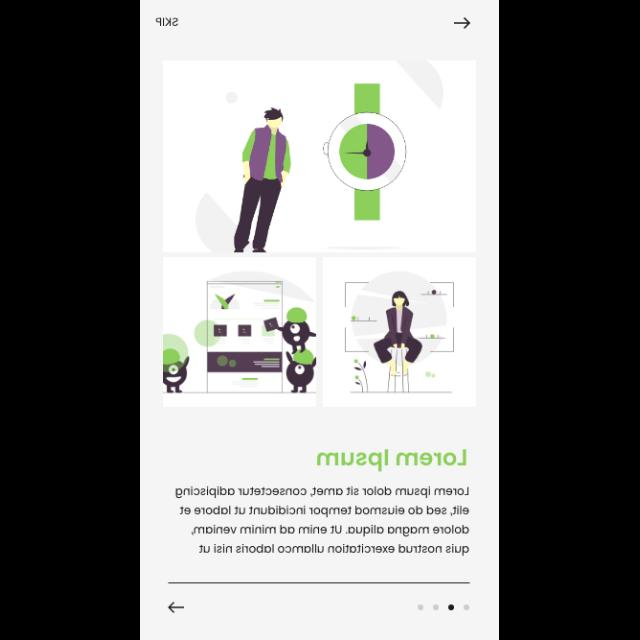icon: (454, 18, 472, 30), (168, 602, 185, 614)
image: (162, 61, 476, 406)
pageindicator: (417, 604, 469, 610)
text: (175, 486, 469, 556), (317, 448, 467, 472), (156, 18, 178, 27)
